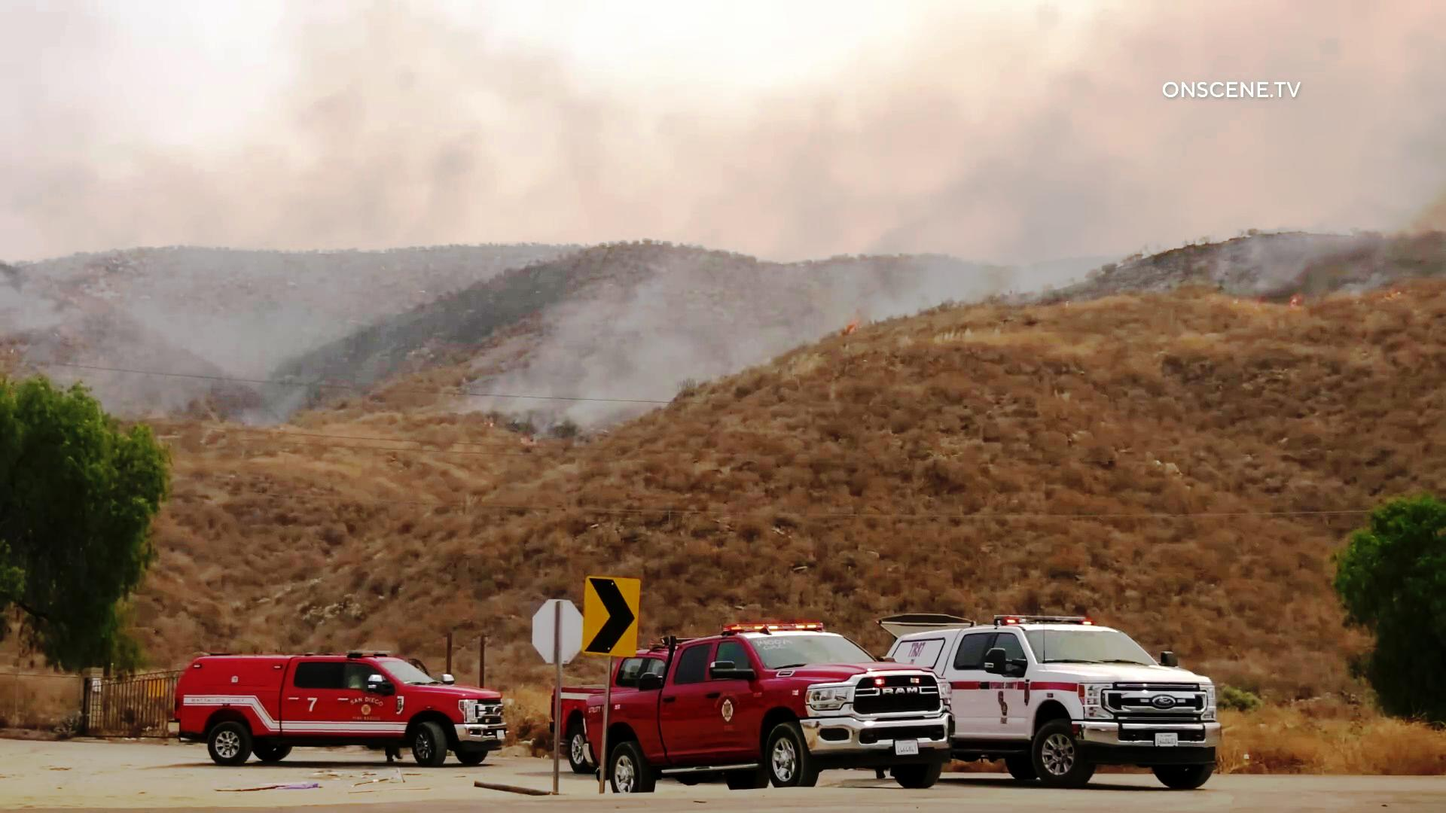smoke: (968, 110, 1114, 259), (312, 97, 394, 181)
